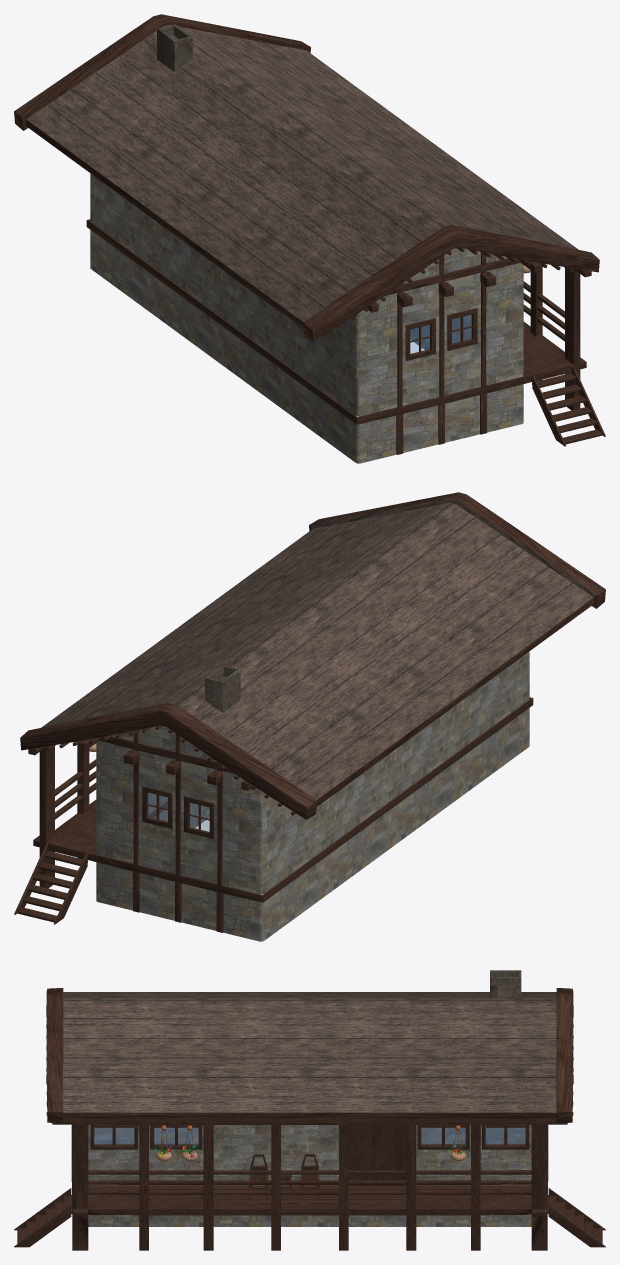
File: forest_cabin_72521002.fbx
3 renders of one model, top to bottom at view 1: azimuth 30°, elevation 25°; view 2: azimuth 150°, elevation 25°; view 3: azimuth 270°, elevation 25°, orthographic. The views are drawn at different scales.
Visible parts, largest first — view 1: forest_cabin_72521002; view 2: forest_cabin_72521002; view 3: forest_cabin_72521002.
Boxes of the visible parts, x1,y1,x2,y2 form: forest_cabin_72521002: (14, 14, 605, 463); forest_cabin_72521002: (14, 492, 605, 941); forest_cabin_72521002: (14, 970, 605, 1250).
Size of the model in its own units: 9.62 by 7.41 by 19.11.
20 materials, 19 textured.
